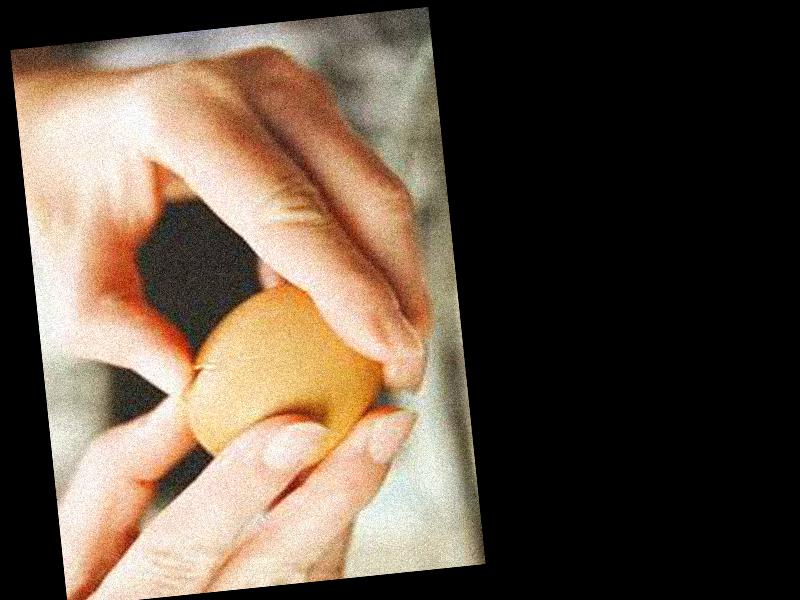Eggs: (171, 276, 394, 481)
